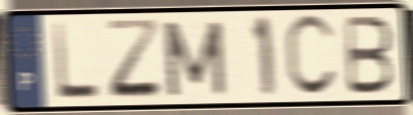1: (248, 14, 280, 101)
B: (344, 13, 396, 97)
C: (281, 11, 341, 100)
L: (50, 19, 102, 103)
M: (159, 18, 230, 100)
Z: (104, 16, 166, 102)
